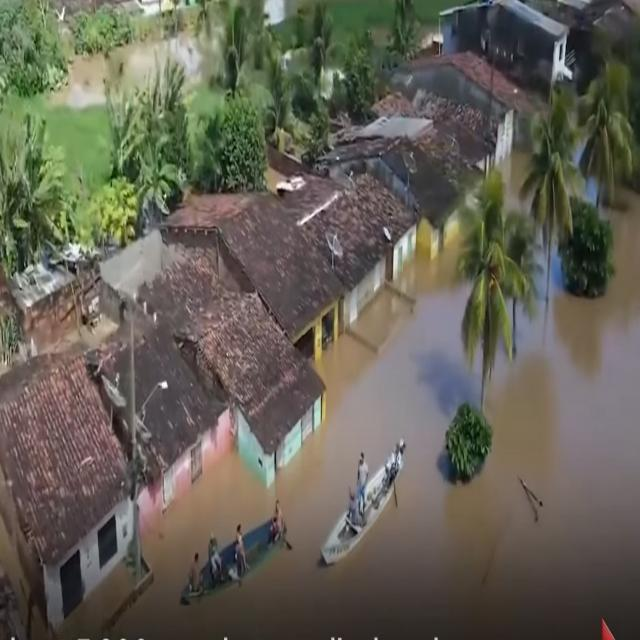flood: (144, 198, 640, 640), (390, 241, 466, 316), (131, 540, 188, 631), (276, 521, 323, 583)
house: (0, 318, 145, 632), (205, 288, 330, 476), (102, 322, 226, 502), (211, 193, 344, 349), (301, 176, 391, 312), (380, 133, 460, 254), (404, 45, 524, 124), (434, 0, 576, 66), (356, 161, 428, 271)
